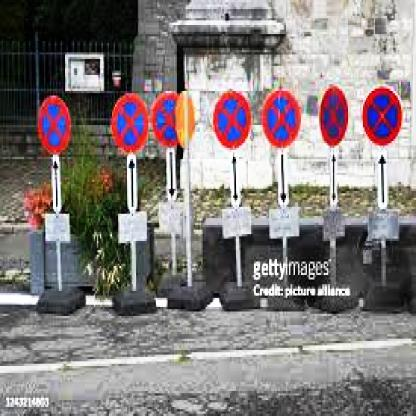No stopping: (35, 87, 70, 156), (213, 92, 250, 156), (260, 88, 299, 148), (111, 95, 147, 156), (366, 86, 401, 145), (318, 89, 350, 146), (153, 92, 185, 146)
